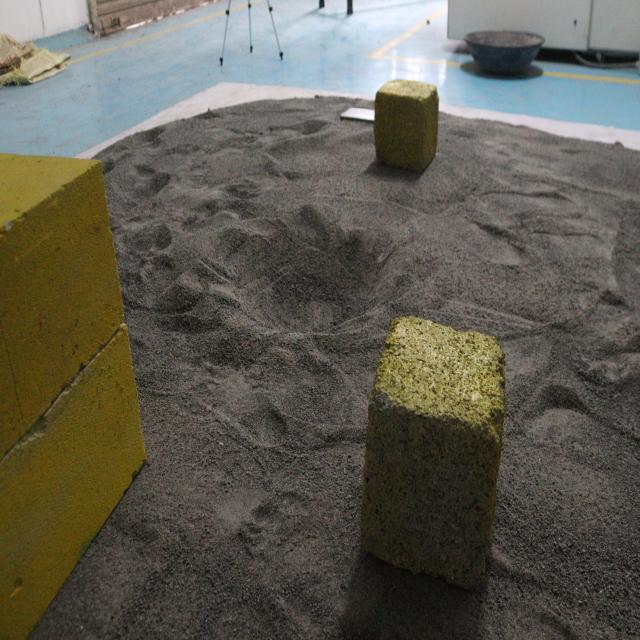box: (0, 140, 150, 634), (368, 312, 502, 588), (367, 85, 446, 175)
crater: (187, 202, 384, 341)
